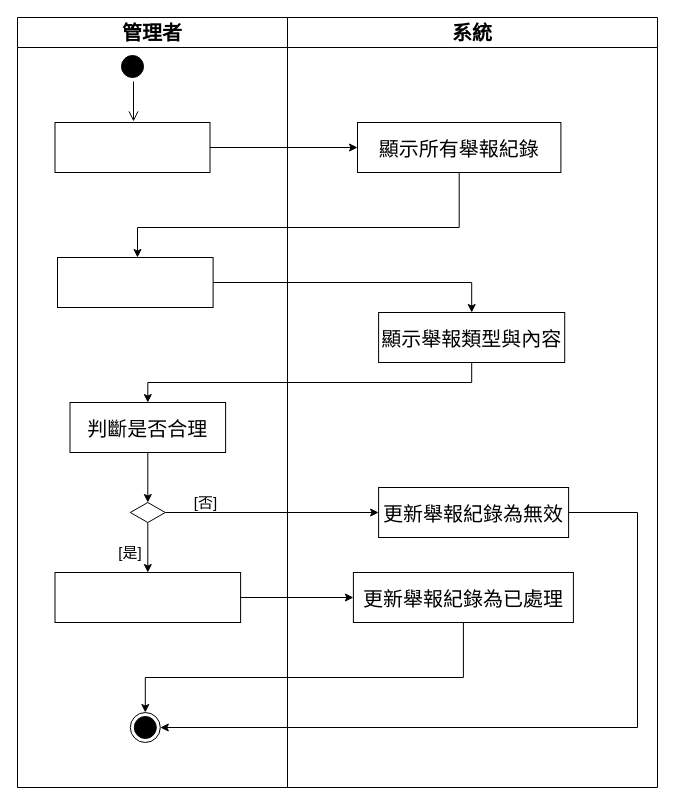
Image size: 675x805. Some labels were removed from this diagram. Here are the shapes that lost their labels. From the top down, the centre of each, then its label:
At point (132, 147): "開啟舉報紀錄".
At point (134, 282): "點選一筆舉報".
At point (147, 597): "選擇處理方式(刪除 內容、警告使用者)".
